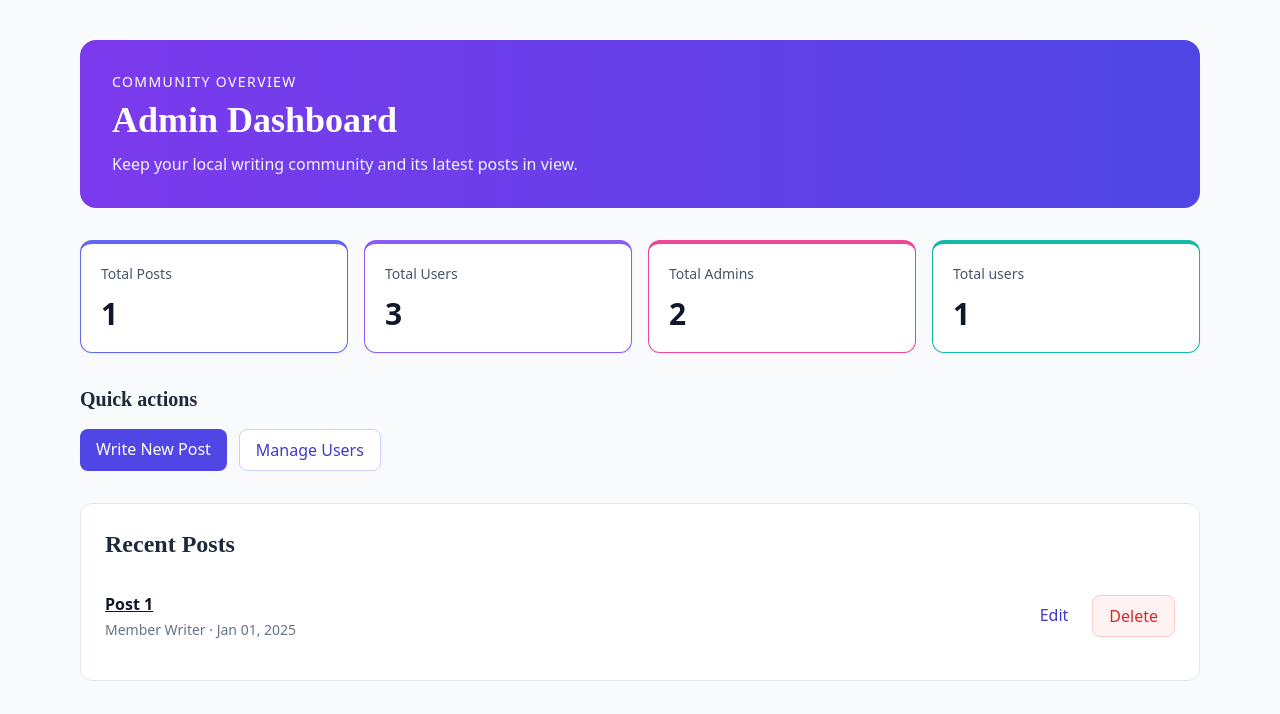
Test case: dashboard › reports write deletion failure without success
Click the button with aria-label "Delete Post 1" at (1134, 616), box x1=1092 y1=595 x2=1175 y2=637
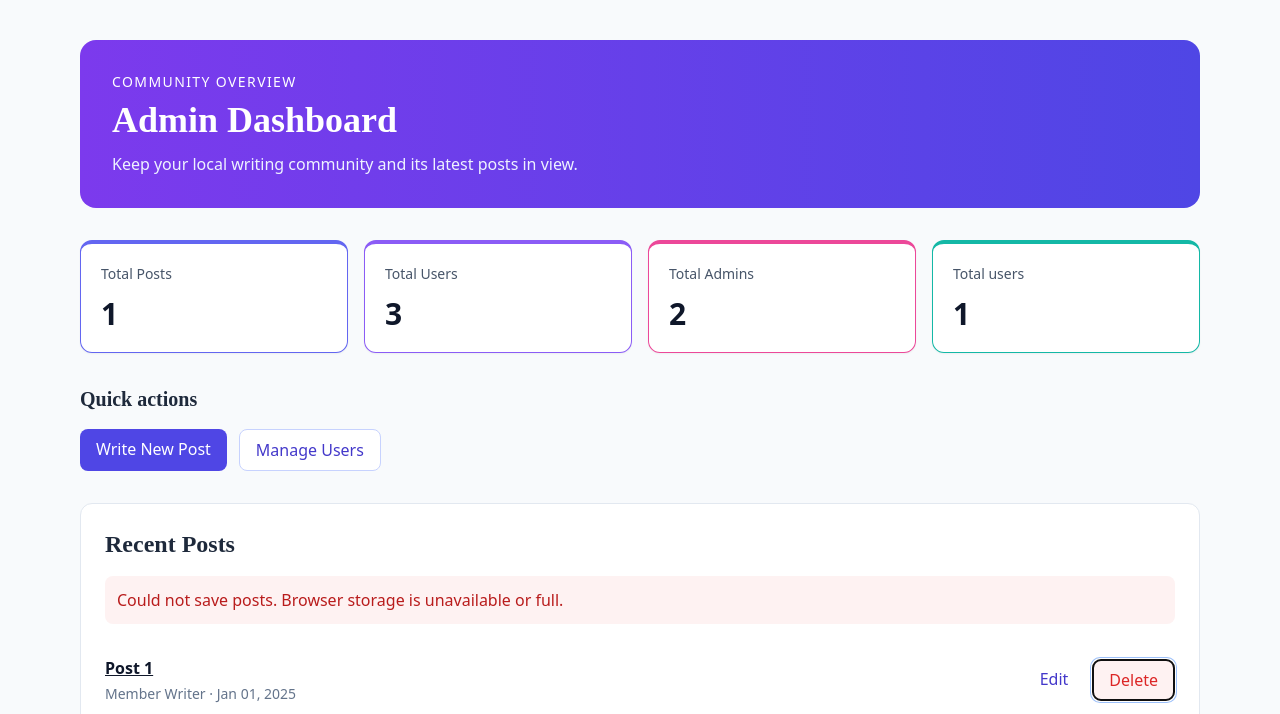
Expected: the message shows "Could not save posts", x1=117 y1=589 x2=563 y2=611
